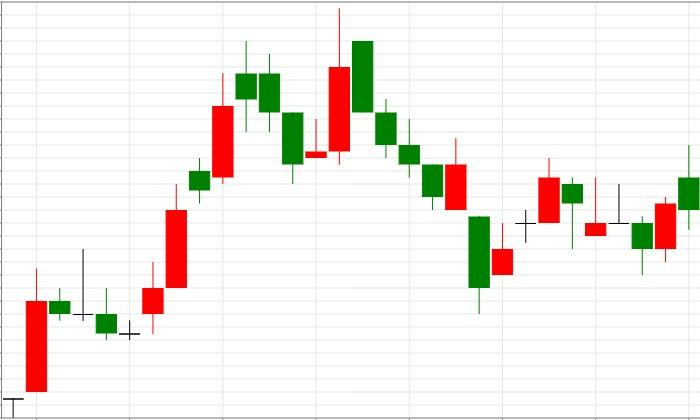bullish_engulfing_rise: (352, 41, 467, 211)
three_black_crows_fall: (282, 8, 419, 184)
